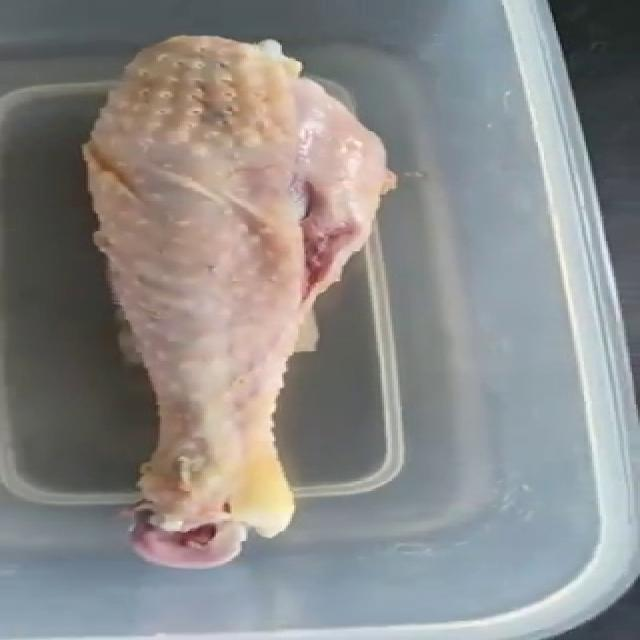chicken: (82, 29, 394, 572)
